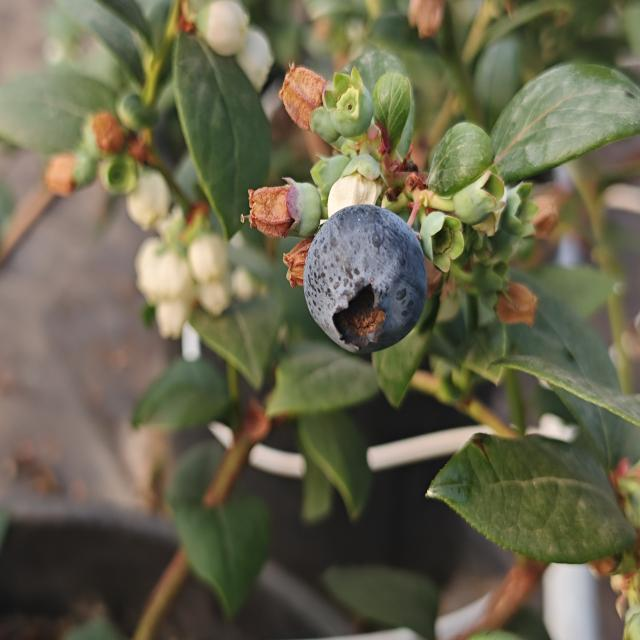ripe: (294, 182, 439, 370)
